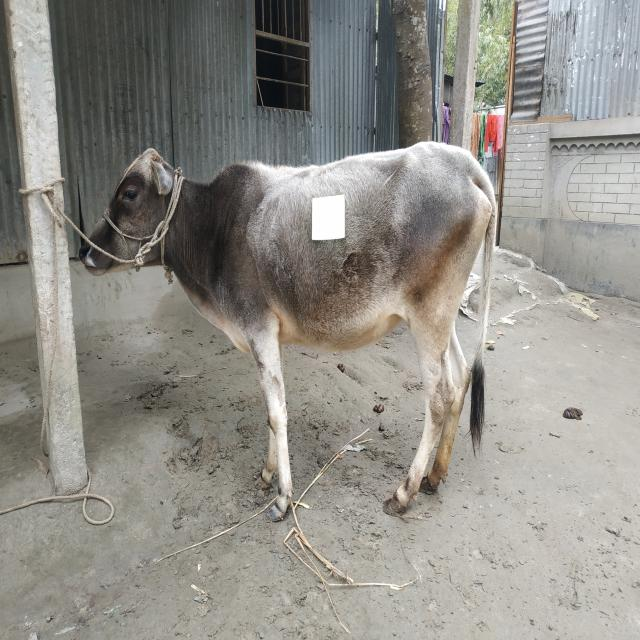badan_sapi: (252, 150, 472, 356)
sapi: (79, 146, 504, 521)
